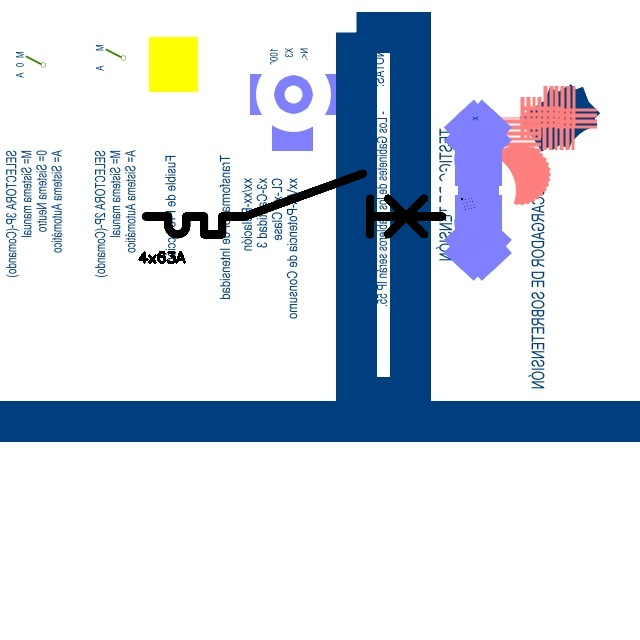interruptor_termomagnetico: (138, 166, 450, 242)
